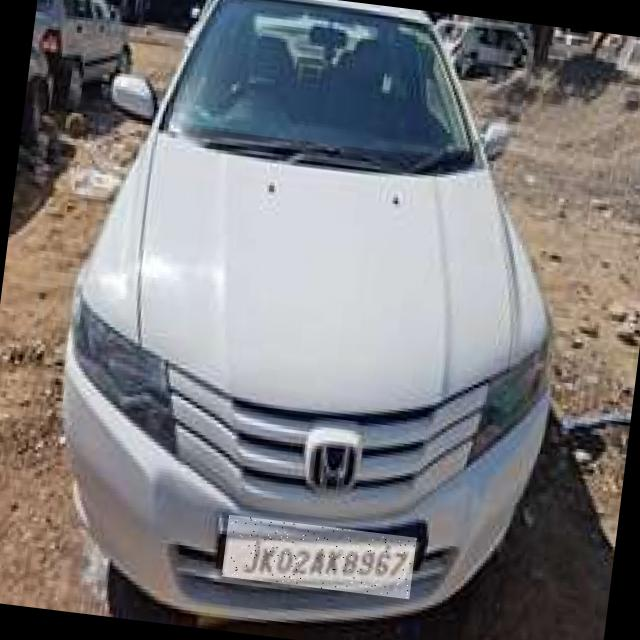Plate: (222, 515, 417, 600)
